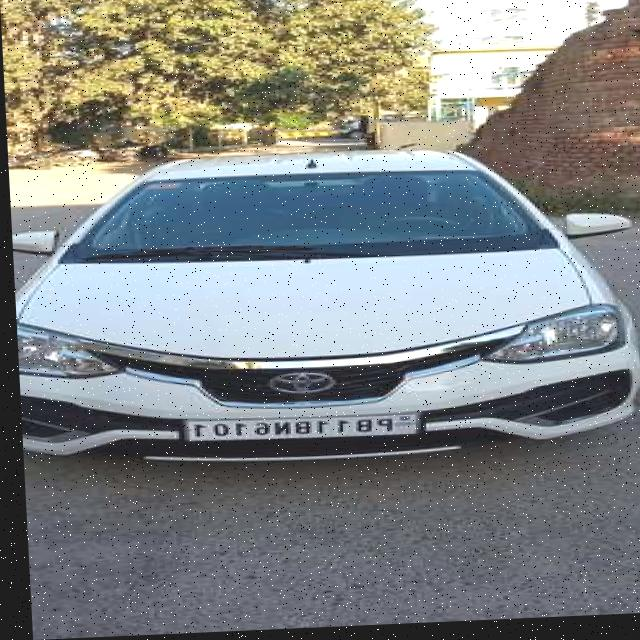plate: (171, 412, 424, 448)
